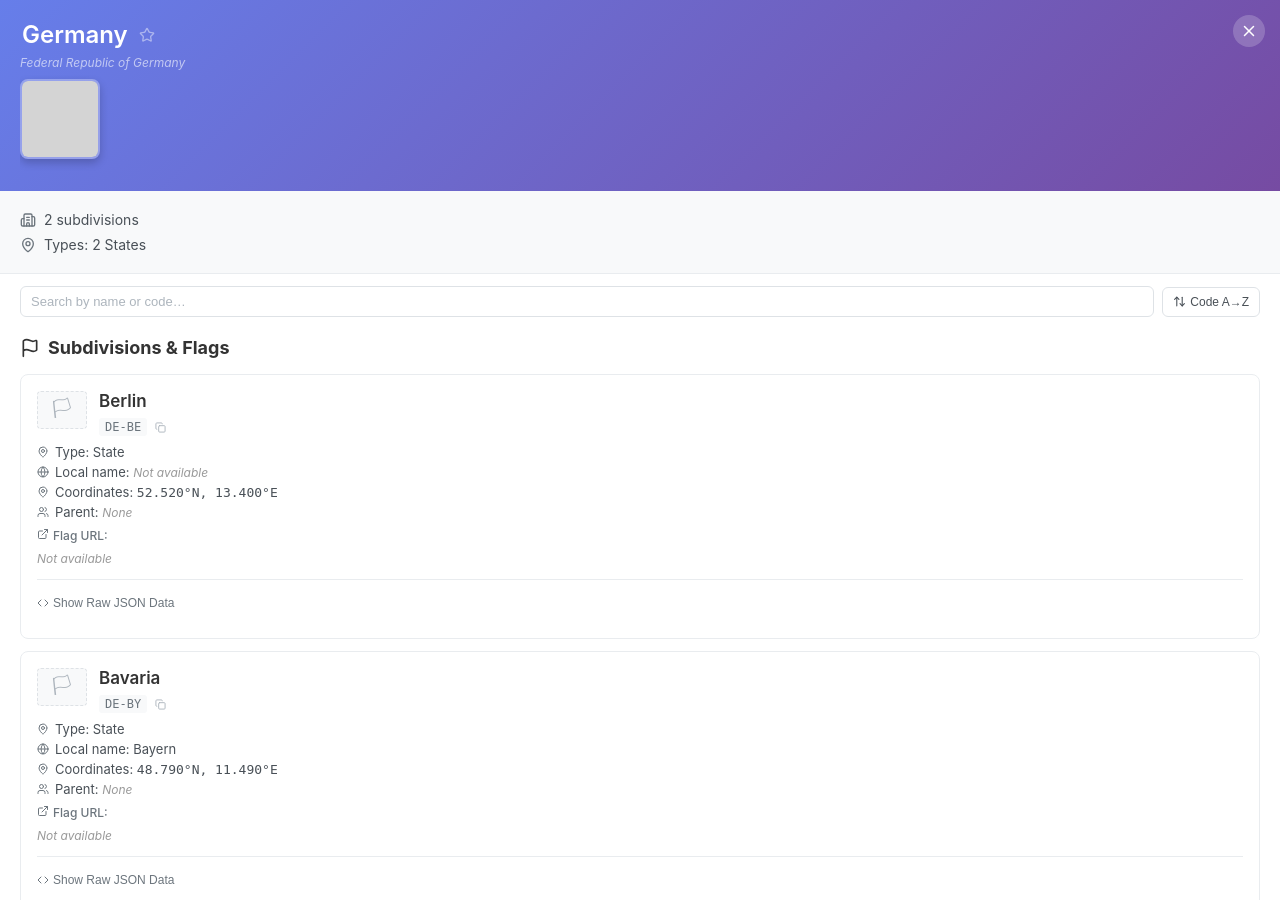
Test: CountryInfo › opens subdivision modal when card is clicked
What coordinates should you click on to do the following:
click the heading "Berlin"
I would click on:
 (123, 401)
Its box is [99, 391, 147, 411].
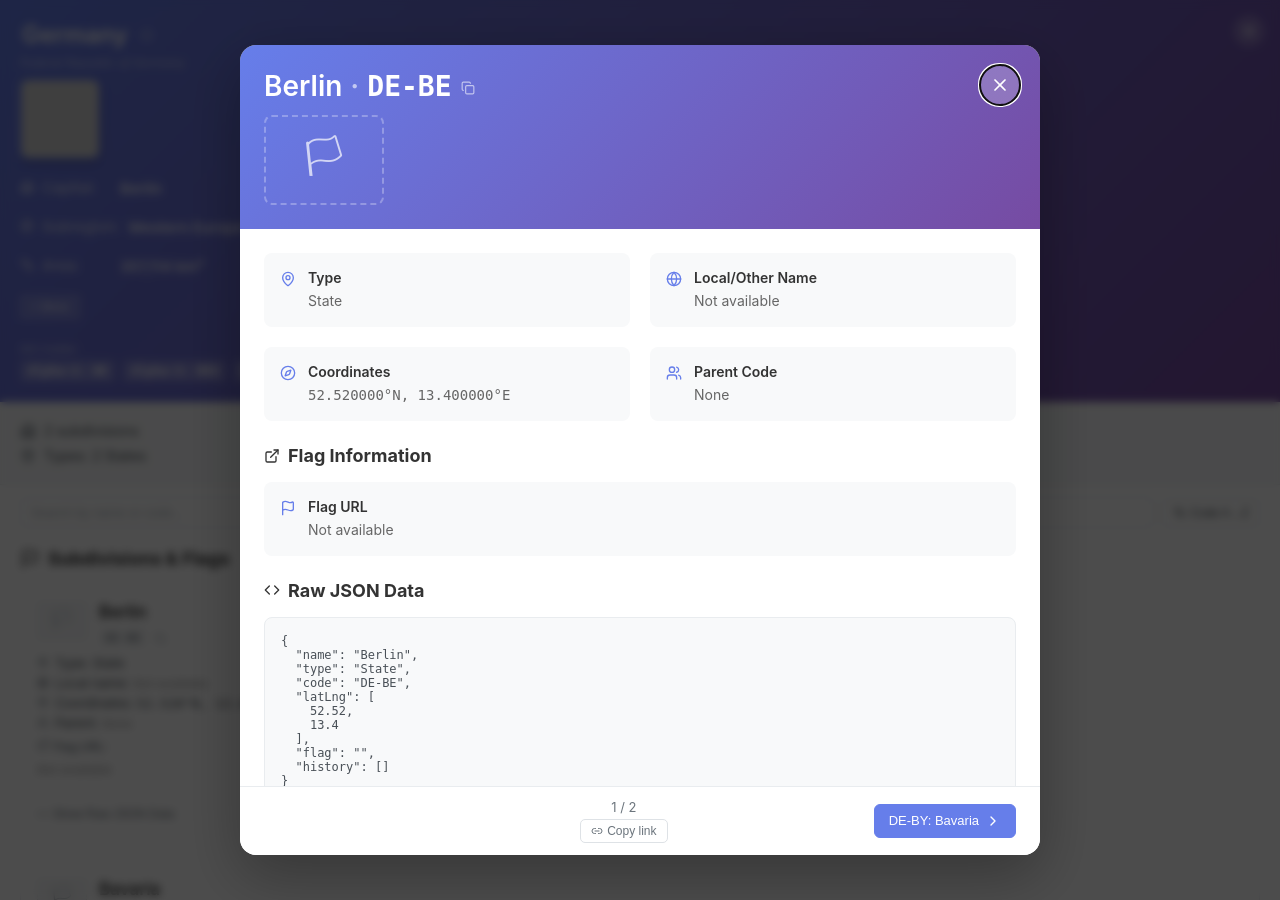
Expected: the button named "Close modal" is shown, [980, 65, 1020, 105]
